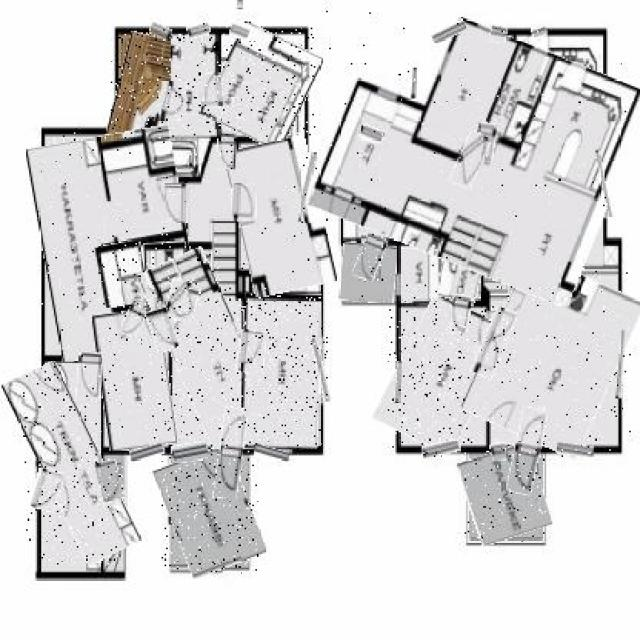door: (510, 406, 544, 496), (216, 408, 244, 498), (478, 306, 512, 379), (456, 132, 486, 188), (357, 234, 385, 281), (168, 280, 198, 322), (32, 470, 62, 512), (237, 331, 266, 374), (150, 308, 176, 352), (95, 460, 123, 500), (77, 352, 100, 400), (159, 80, 186, 120), (166, 183, 191, 223), (232, 183, 257, 220), (475, 123, 497, 162), (452, 295, 474, 334), (218, 129, 237, 169), (203, 72, 223, 108), (122, 304, 144, 336)
window: (301, 152, 314, 223), (315, 337, 328, 403), (172, 442, 208, 462), (255, 444, 292, 462), (600, 150, 609, 218), (422, 441, 460, 457), (431, 23, 466, 40), (617, 329, 625, 398), (557, 443, 594, 457), (130, 445, 164, 460), (360, 125, 385, 142), (188, 20, 210, 38), (489, 25, 508, 43), (231, 22, 251, 38), (150, 24, 172, 38), (394, 362, 401, 404), (489, 443, 506, 460), (532, 24, 546, 36), (412, 68, 417, 99)
zone: (322, 11, 636, 284), (35, 129, 197, 357), (474, 262, 631, 450), (154, 249, 261, 448), (23, 362, 122, 564), (388, 298, 498, 451), (231, 138, 329, 294), (210, 26, 316, 145), (242, 294, 322, 449), (162, 449, 258, 574), (406, 34, 486, 169), (99, 309, 172, 449), (111, 32, 180, 148), (463, 448, 546, 543), (172, 31, 218, 129), (471, 30, 518, 124), (340, 243, 397, 303), (97, 242, 148, 306), (145, 243, 186, 306), (438, 246, 482, 302), (402, 248, 438, 298)
